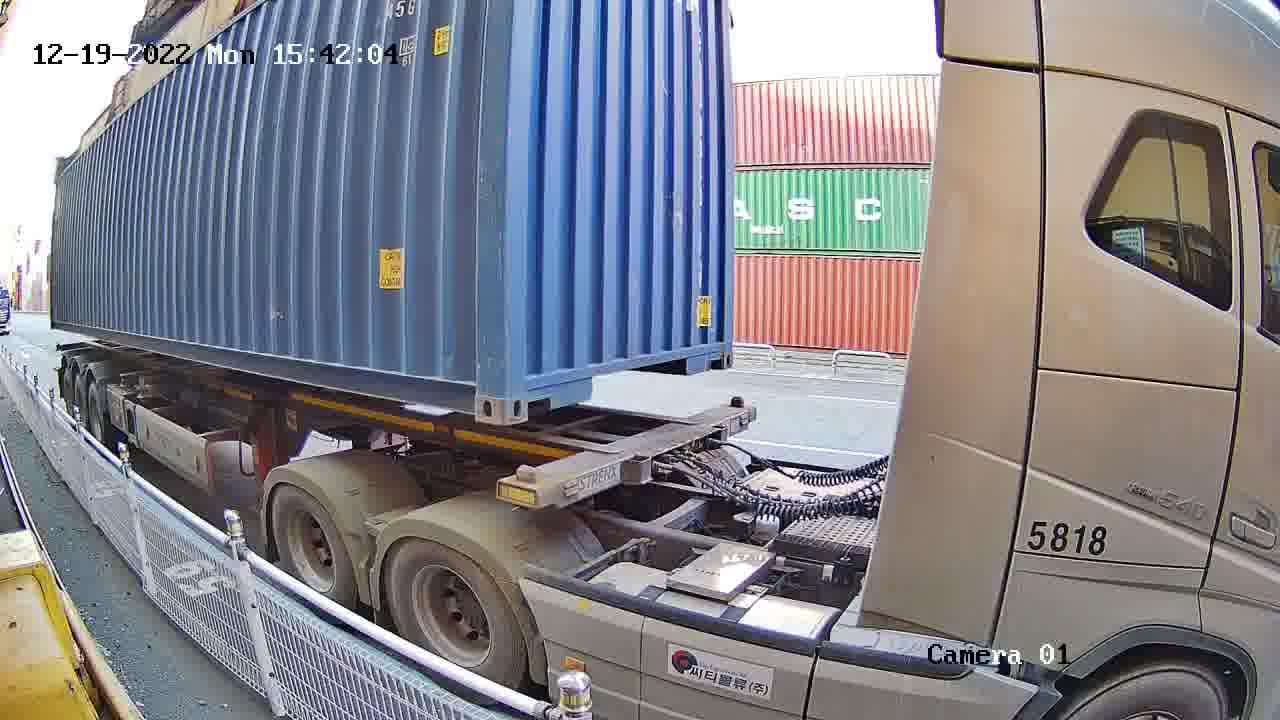Chassis: (499, 406, 753, 509)
Cone: (501, 462, 542, 504), (724, 393, 744, 413)
Hole_L: (505, 362, 552, 426)
Hole_R: (444, 357, 505, 426), (705, 324, 736, 370)
Tire: (387, 541, 510, 675), (270, 484, 352, 599)
